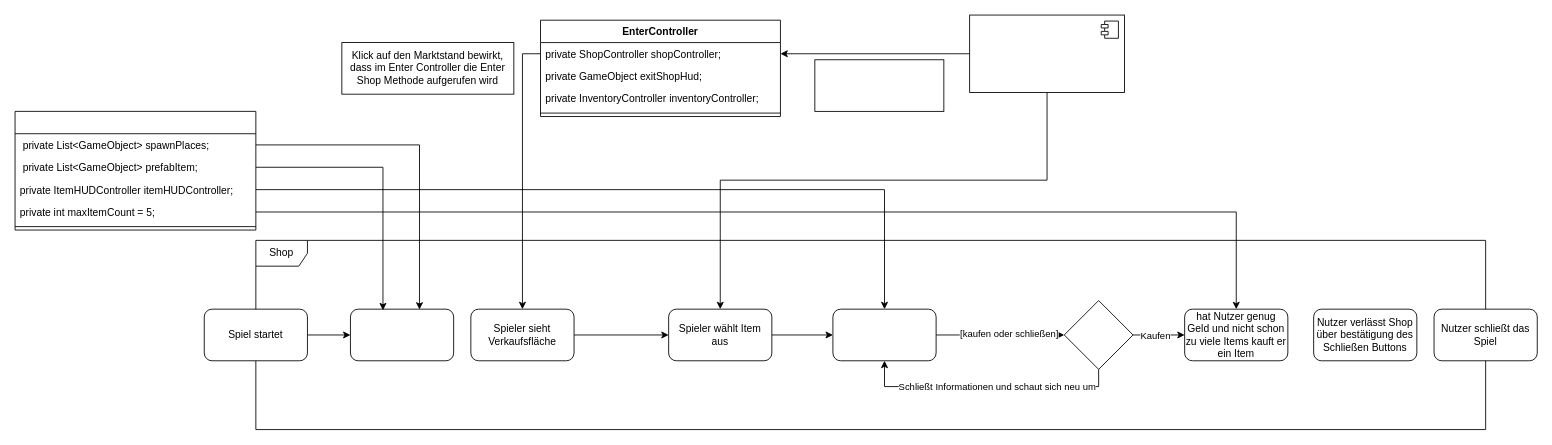
This 1552x445 diagram has some shape labels left out. The box of each missing label's shape, as (x1, y1, x2, y2) in pixels:
Export Ray: (969, 14, 1124, 92)
jeder Spawnplace bekommt ein Item: (350, 308, 454, 361)
ShopController: (14, 111, 256, 230)
Sieht Item Daten: (832, 308, 936, 361)
Wenn Spieler nah genug an Marktstand kann er ihn anklicken: (814, 59, 944, 111)
